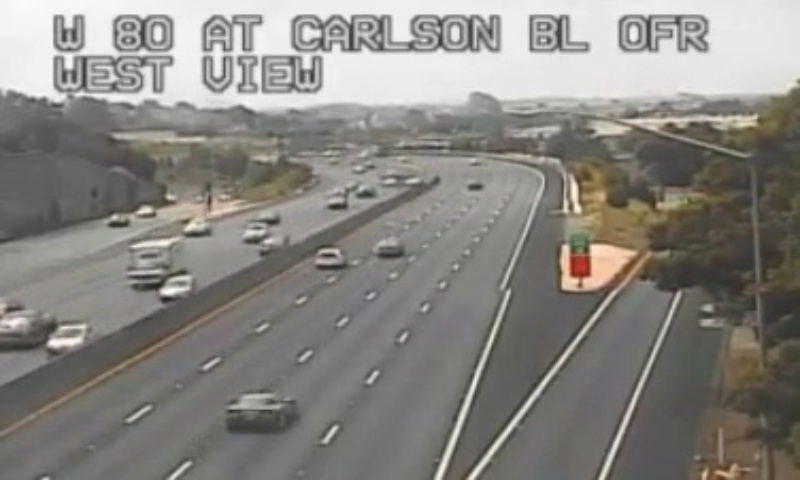car: (225, 393, 293, 427), (315, 247, 344, 267), (374, 238, 402, 256)
